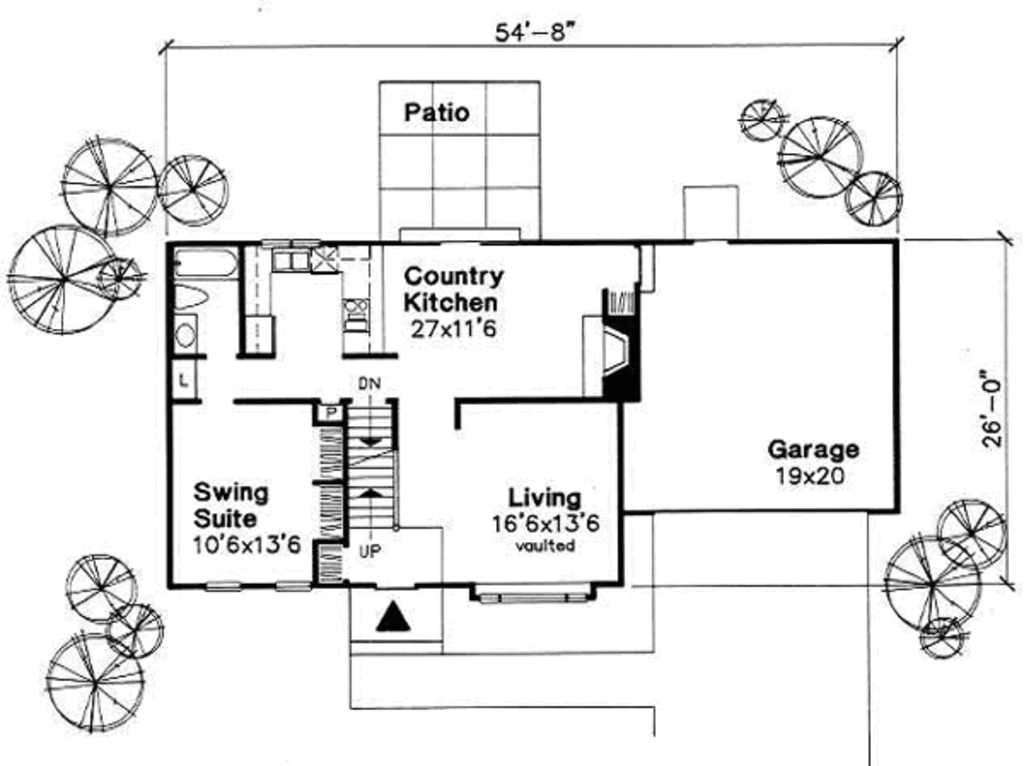large_sink: (175, 284, 210, 308)
small_sink: (169, 312, 200, 356)
stairs: (345, 376, 401, 554)
tub: (172, 247, 242, 280)
twin_sink: (267, 243, 316, 277)
windows: (476, 588, 592, 606), (192, 578, 244, 596), (263, 578, 314, 591)
